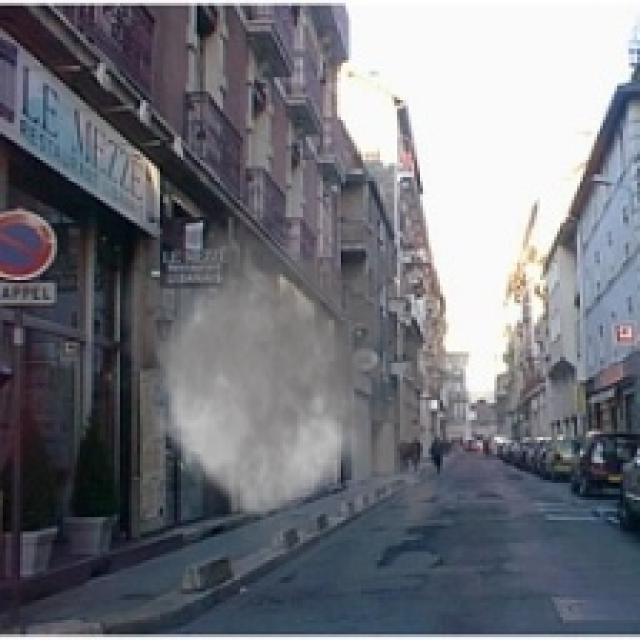smoke: (106, 197, 448, 586)
